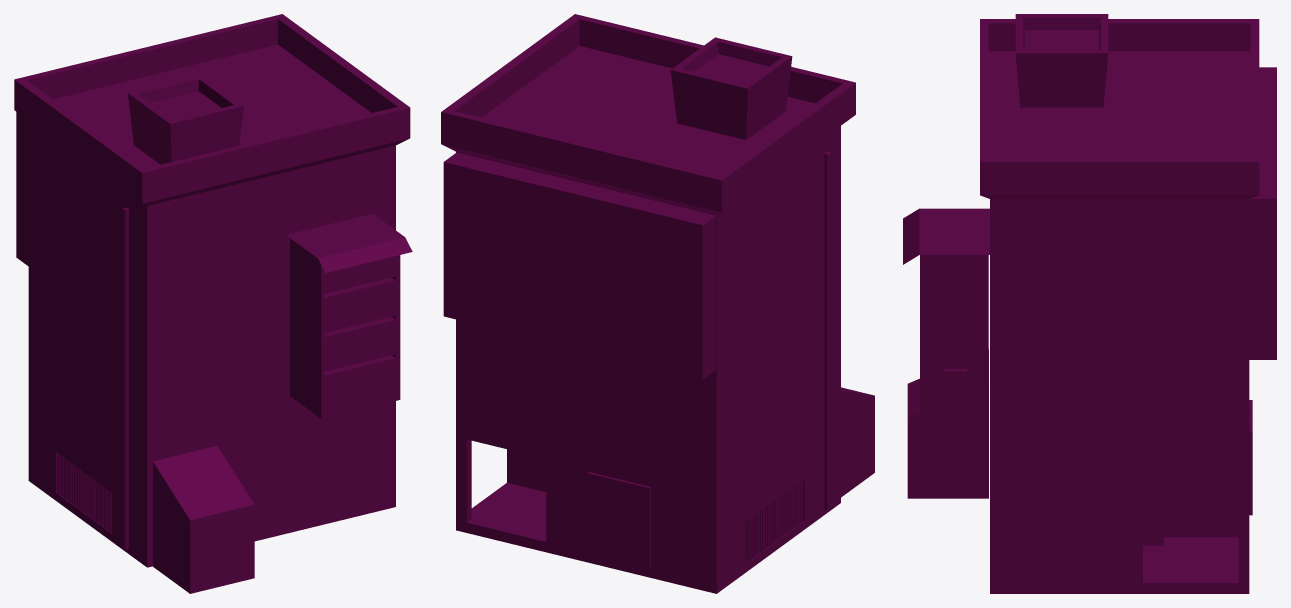
Rendered from edificio 7.fbx.
The picture shows the model from 3 angles, left to right: view 1: azimuth 30°, elevation 25°; view 2: azimuth 150°, elevation 25°; view 3: azimuth 270°, elevation 25°; orthographic projection. The views are drawn at different scales.
Visible parts, largest first — view 1: polySurface4286; view 2: polySurface4286; view 3: polySurface4286.
Part boxes in pixels (box(x1,y1,x2,y2)): polySurface4286: box(14, 14, 412, 593); polySurface4286: box(441, 14, 874, 593); polySurface4286: box(903, 14, 1276, 593).
Size of the model in its own units: 513 by 779 by 567.
